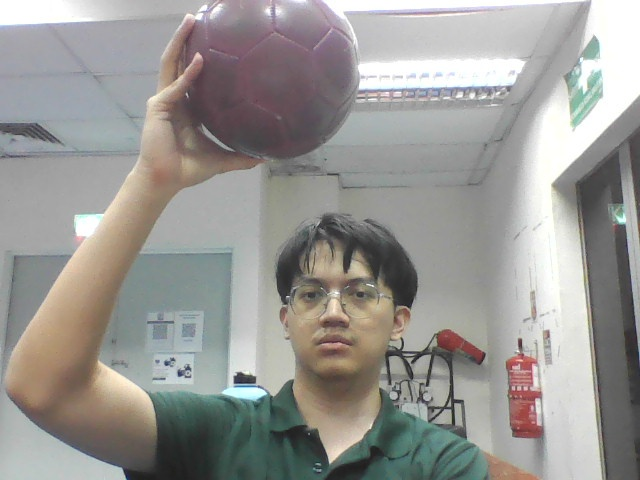Purple: (184, 1, 359, 160)
